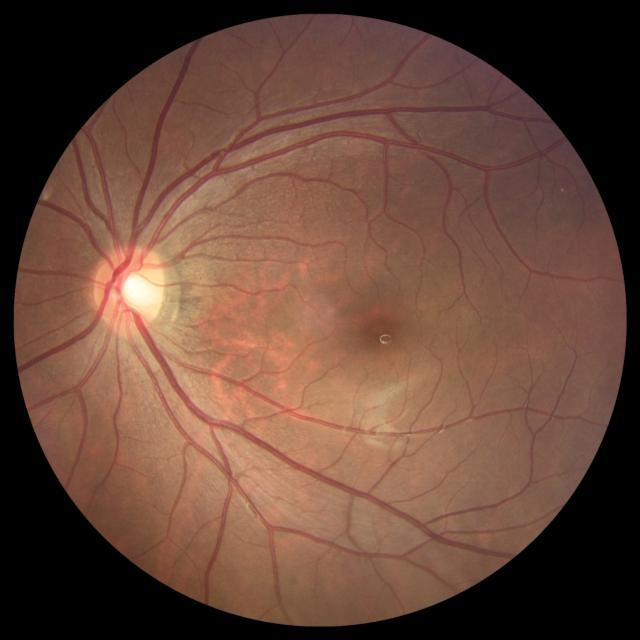OC: (117, 269, 156, 310)
OD: (92, 243, 167, 334)
